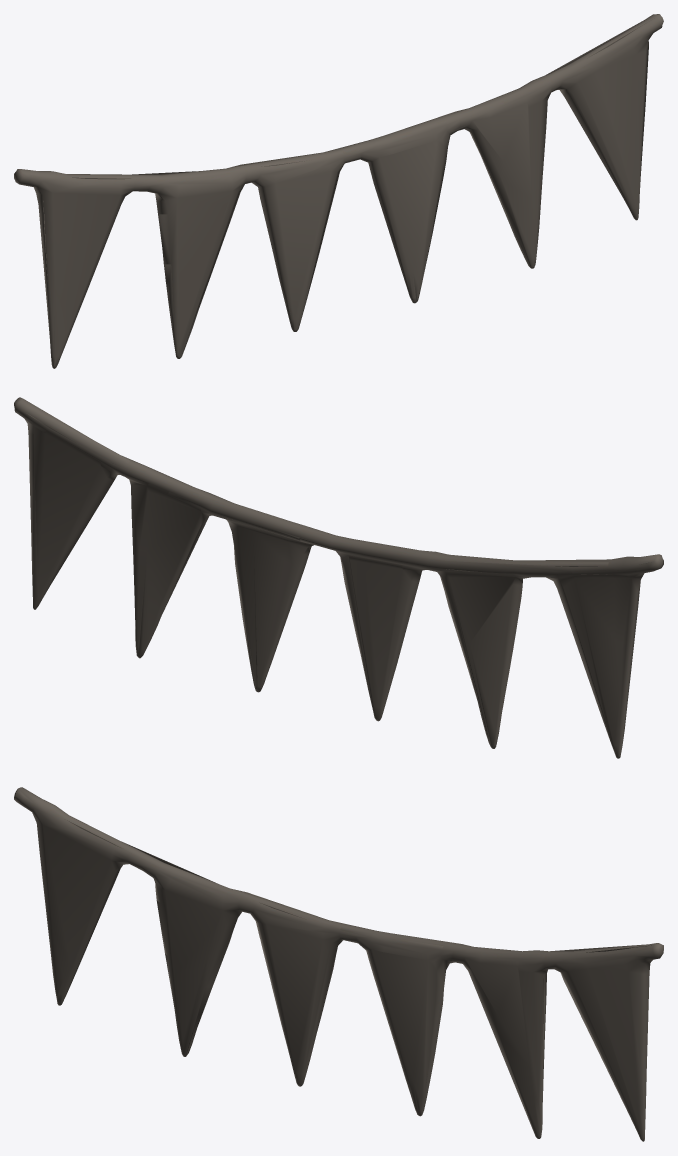
File: guirnalda_de_banderas.glb
The picture shows the model from 3 angles, top to bottom: view 1: azimuth 30°, elevation 25°; view 2: azimuth 150°, elevation 25°; view 3: azimuth 330°, elevation 25°; orthographic projection.
Parts seen in each view (by area): view 1: guirnalda_de_banderas; view 2: guirnalda_de_banderas; view 3: guirnalda_de_banderas.
Part boxes in pixels (<box>): guirnalda_de_banderas: <box>14,14,663,368</box>; guirnalda_de_banderas: <box>14,397,663,758</box>; guirnalda_de_banderas: <box>14,787,663,1141</box>.
Bounding box in the file's own units: 4 × 1.38 × 0.1248.
1 material, 1 textured.
